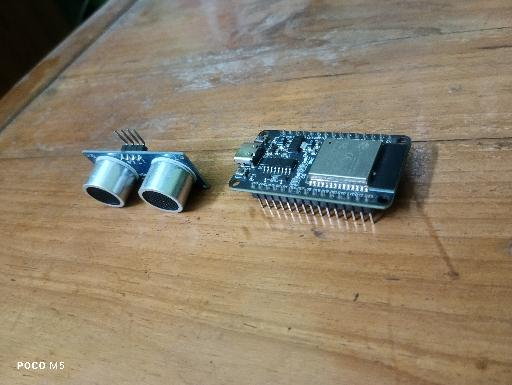Esp32: (229, 129, 411, 225)
sensor: (82, 128, 210, 214)
